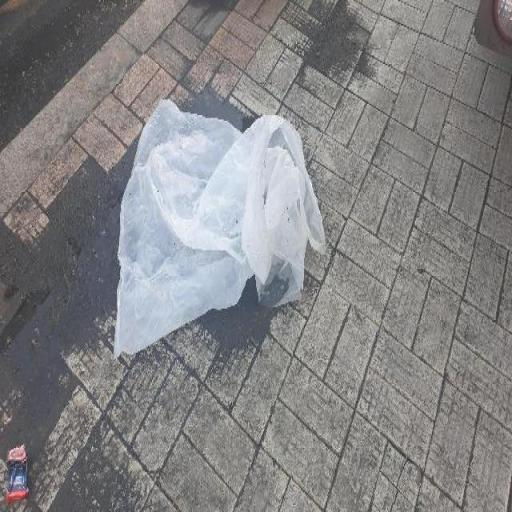plastic-bag: (112, 90, 327, 360)
